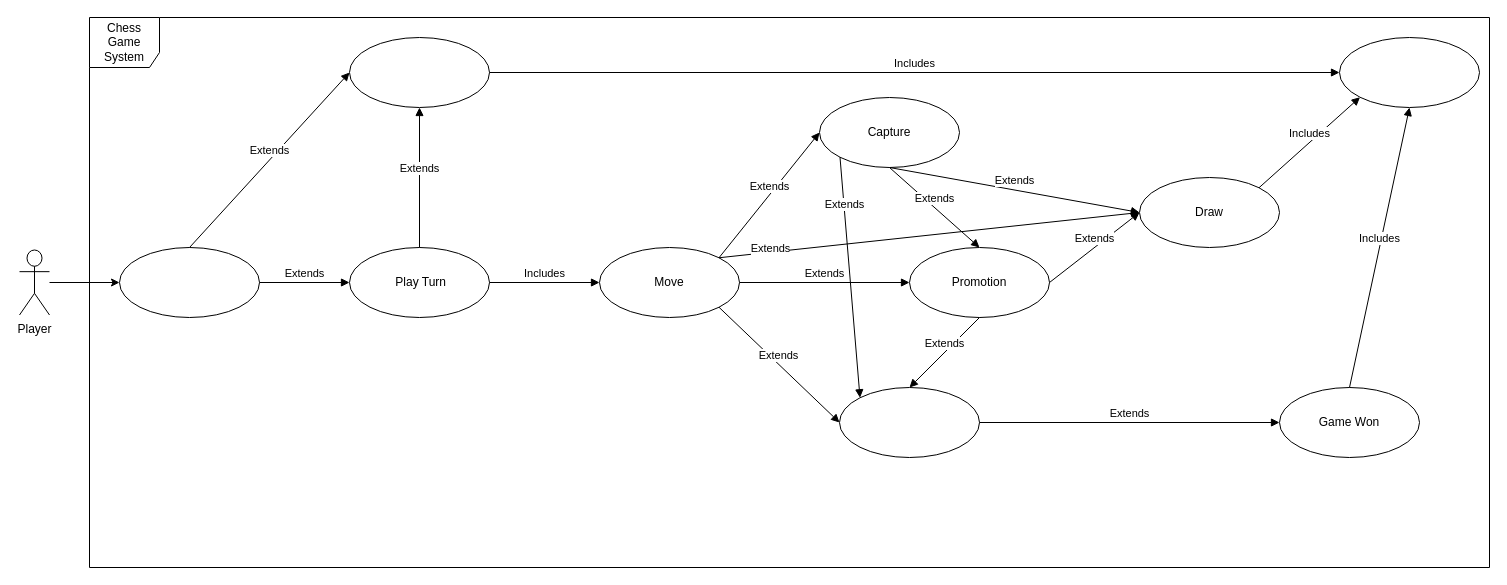
The diagram is 1507 pixels wide and 585 high, and some of its shapes have lost their labels. Each missing label, with the centre of its shape:
"Check" goes at (x=909, y=422).
"Exit Game" goes at (x=1409, y=72).
"Quit Game" goes at (x=419, y=72).
"Start Game" goes at (x=189, y=282).
